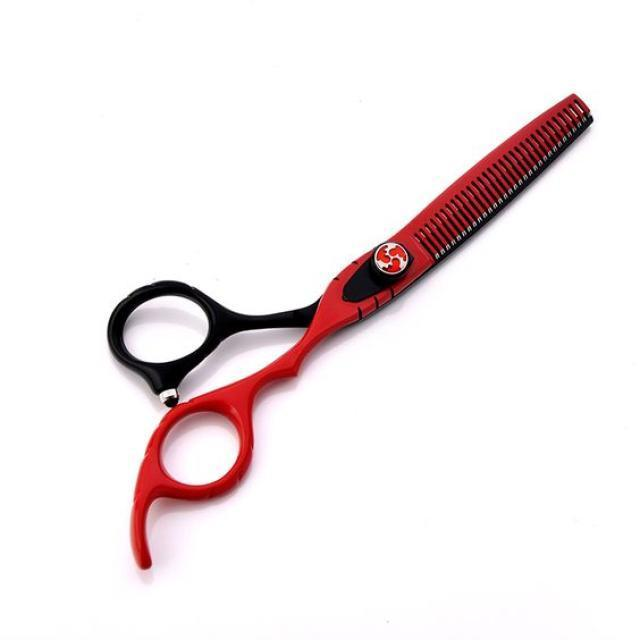scissor: (105, 91, 595, 575)
